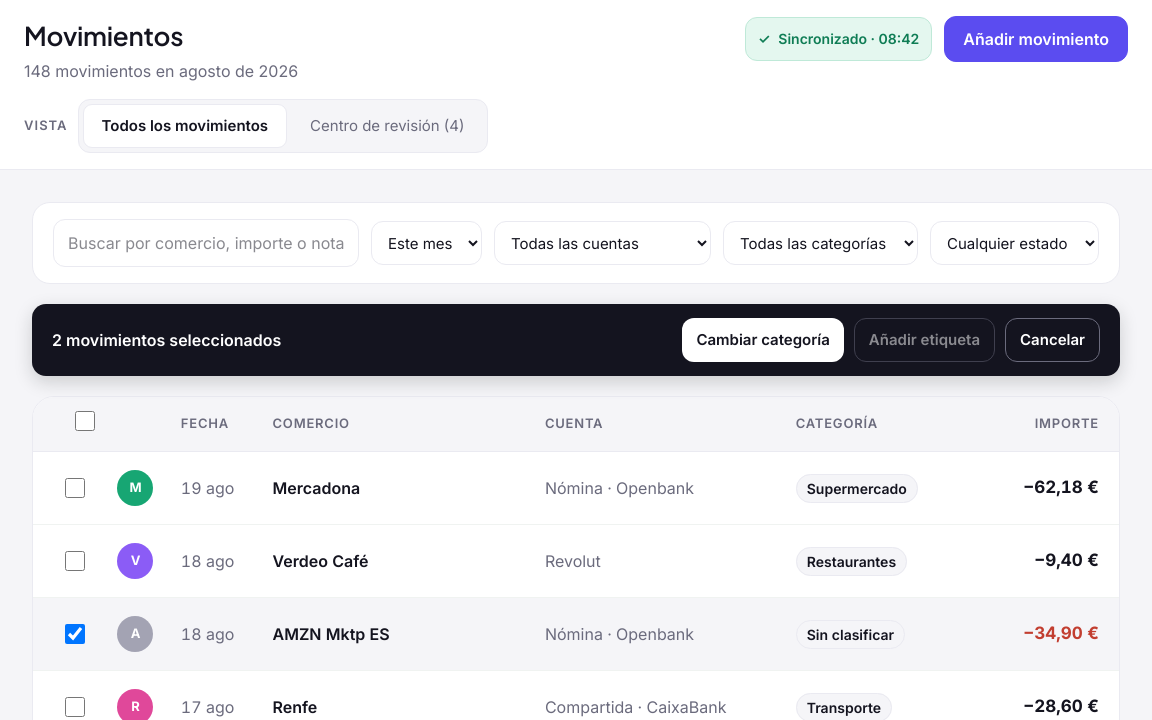
Test: TransactionsPage › resolving a review card lowers the counter
What coordinates should you click on to do the following:
click the button "Centro de revisión (4)"
I would click on:
 (387, 126)
Its box is [291,104,484,148].
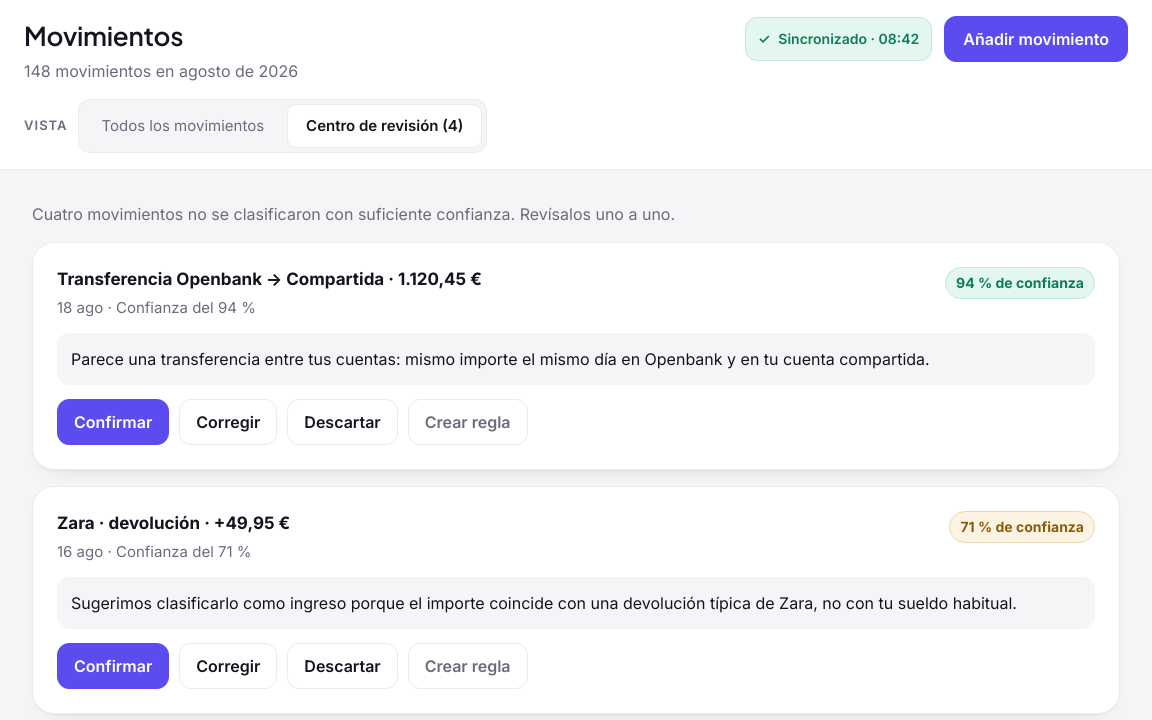
What coordinates should you click on to do the following:
click the button "Confirmar" below "18 ago · Confianza del 94 %"
I would click on:
 (113, 422)
Its box is [57,399,169,445].
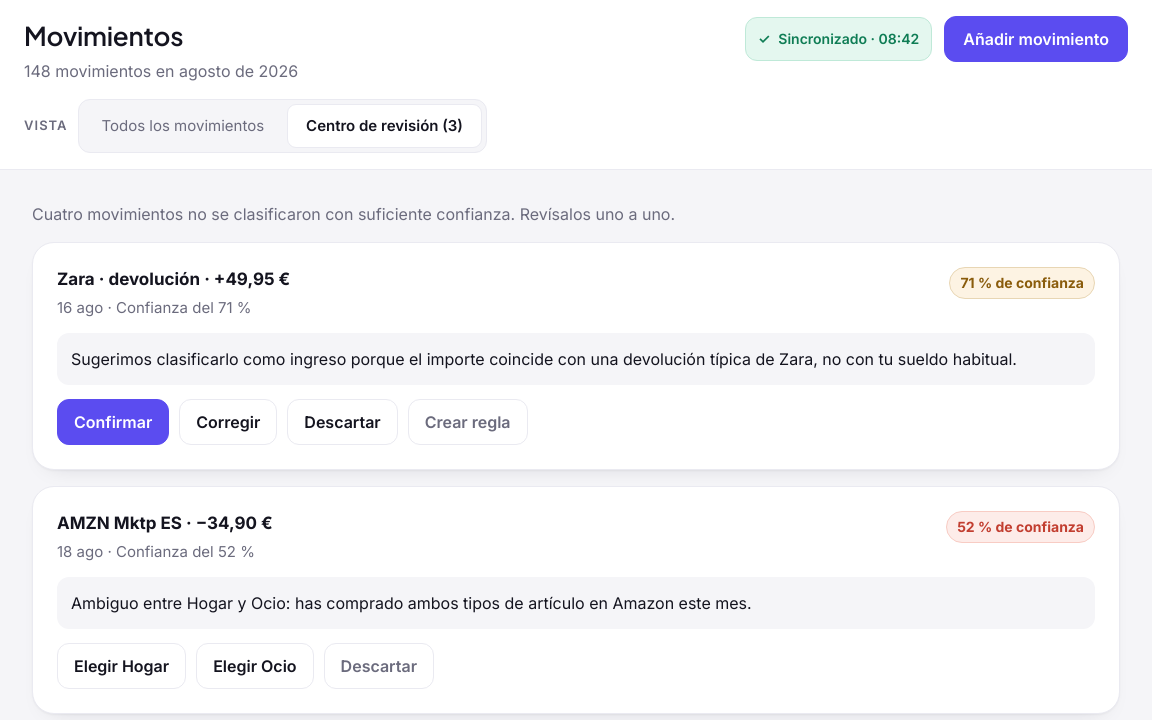
Now the button "Centro de revisión (3)" is shown, box [287,104,482,148]
